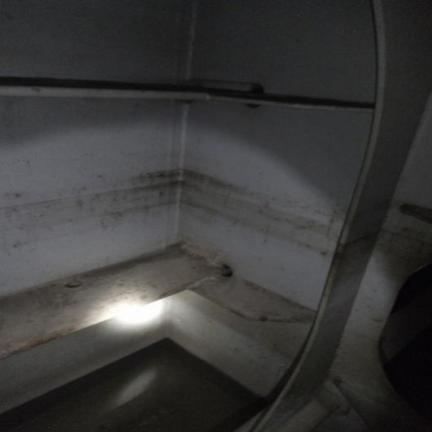besi_tidak_karat: (0, 99, 178, 294)
